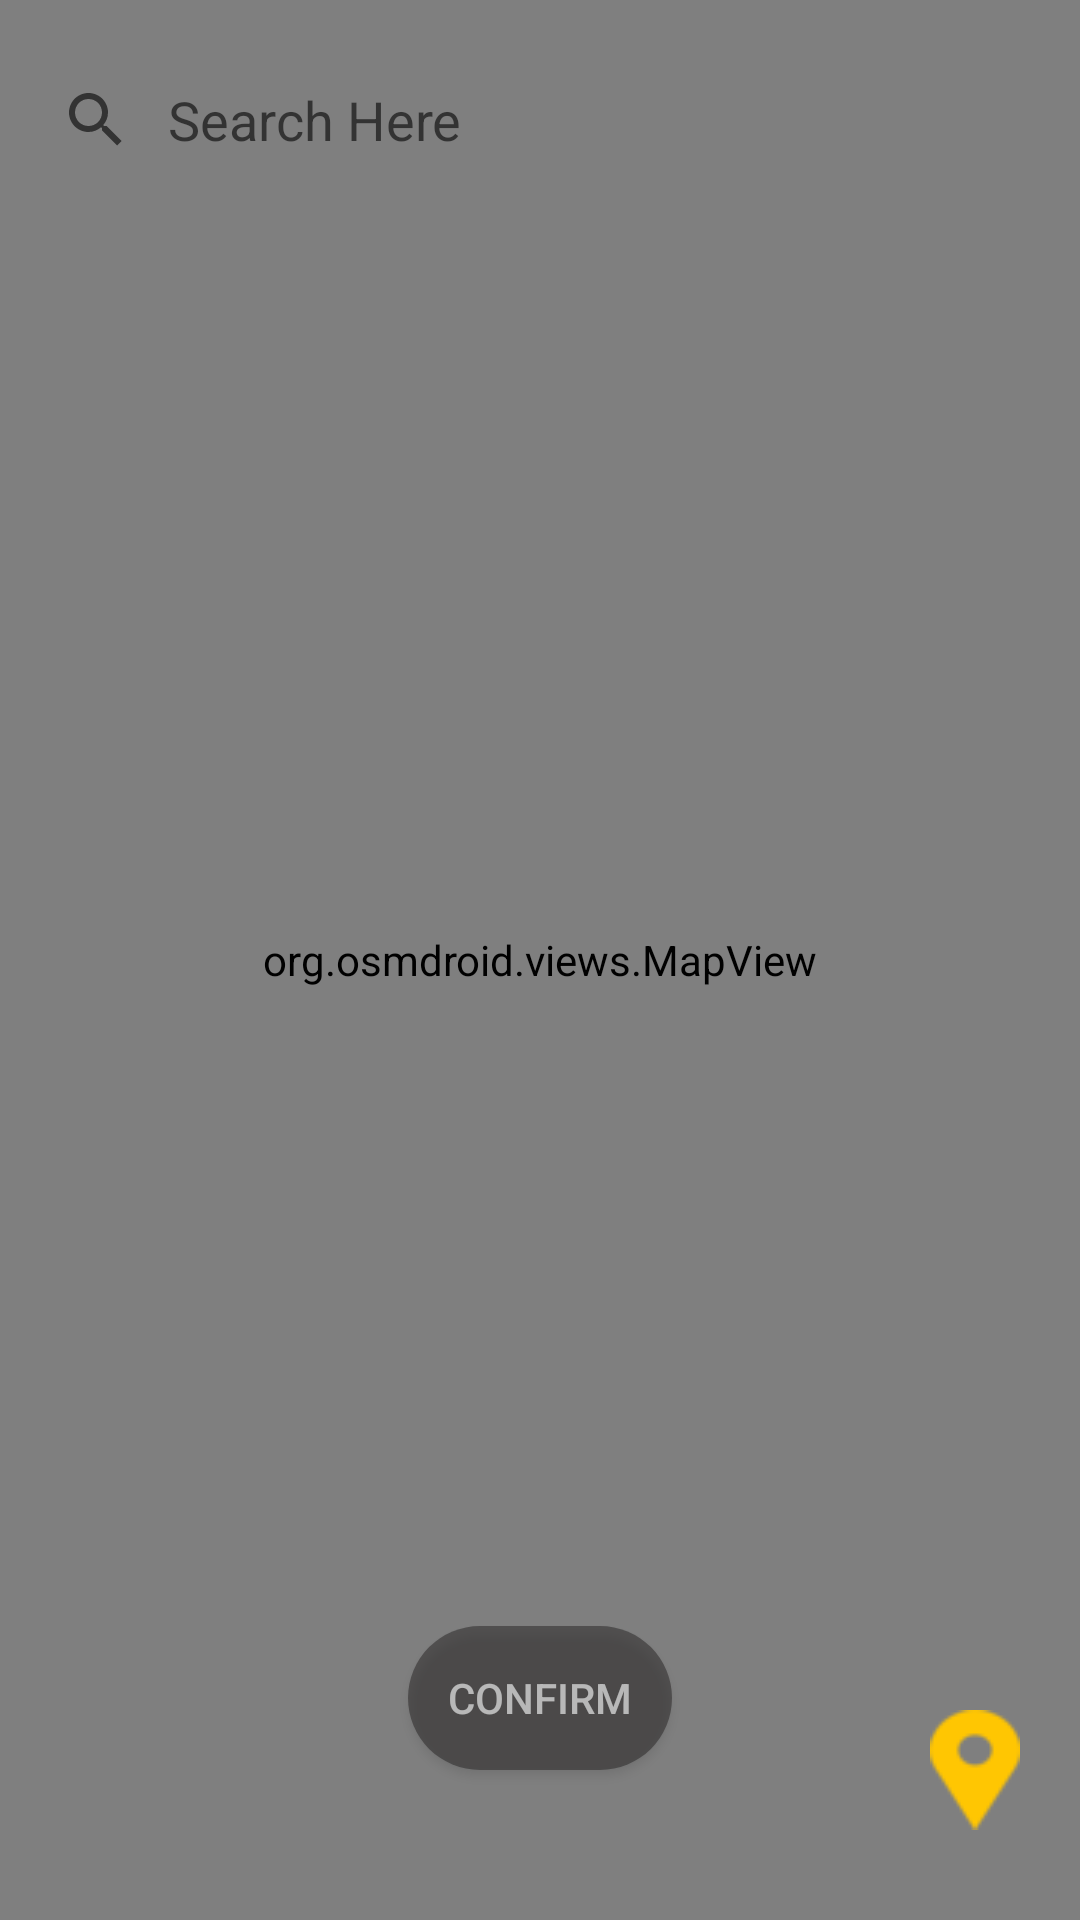

Icon bounding boxes for this 1080 x 1920 phone screenshot, format (x1, y1, x2, y2):
locate: (930, 1710, 1020, 1830)
